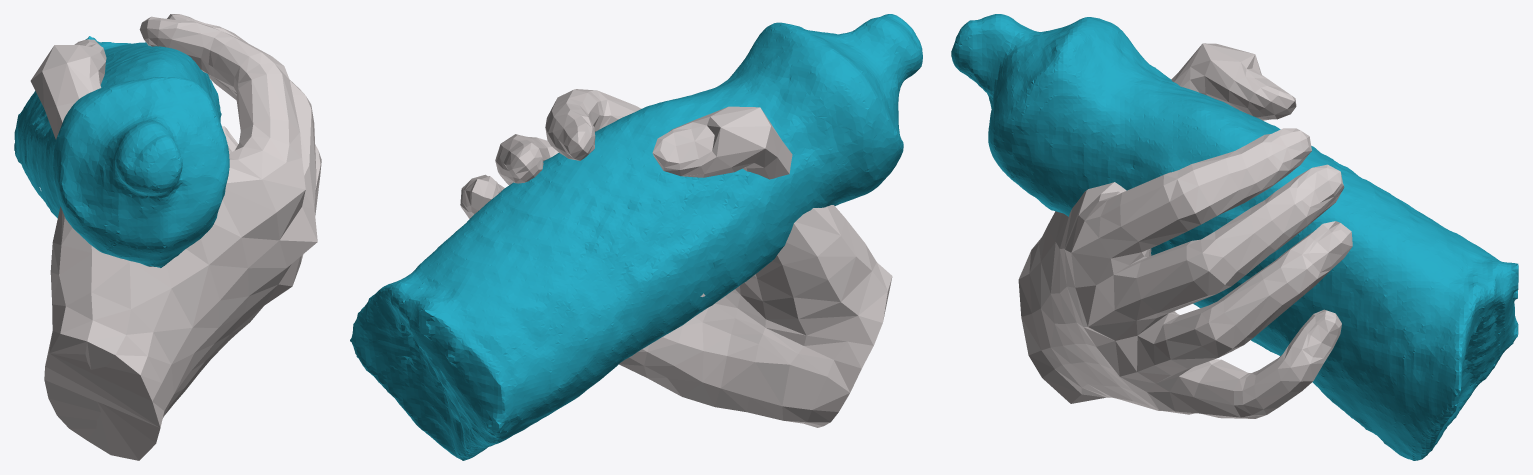
3 views of the same model, side by side, from view 1: azimuth 30°, elevation 25°; view 2: azimuth 150°, elevation 25°; view 3: azimuth 270°, elevation 25° (orthographic).
Parts seen in each view (by area): view 1: world; view 2: world; view 3: world.
Part boxes in pixels (x1,y1,x2,y2): world: (14, 14, 321, 460); world: (350, 14, 922, 460); world: (951, 14, 1518, 460).
Bounding box in the file's own units: 0.1414 × 0.1456 × 0.1952.
